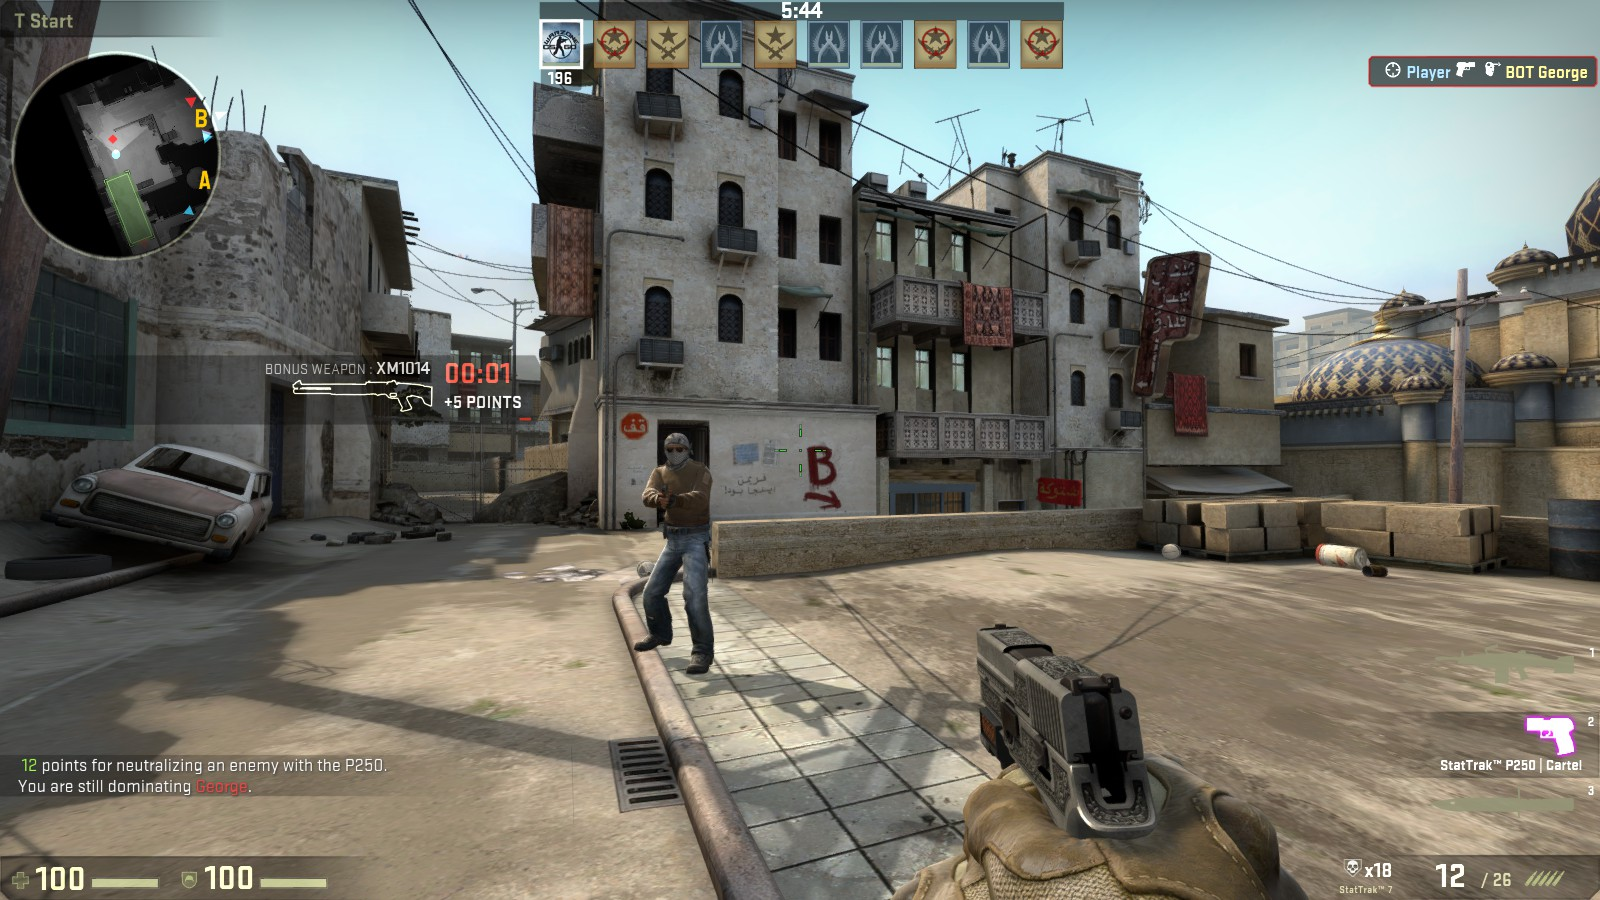t: (642, 433, 713, 673)
th: (662, 432, 692, 469)
